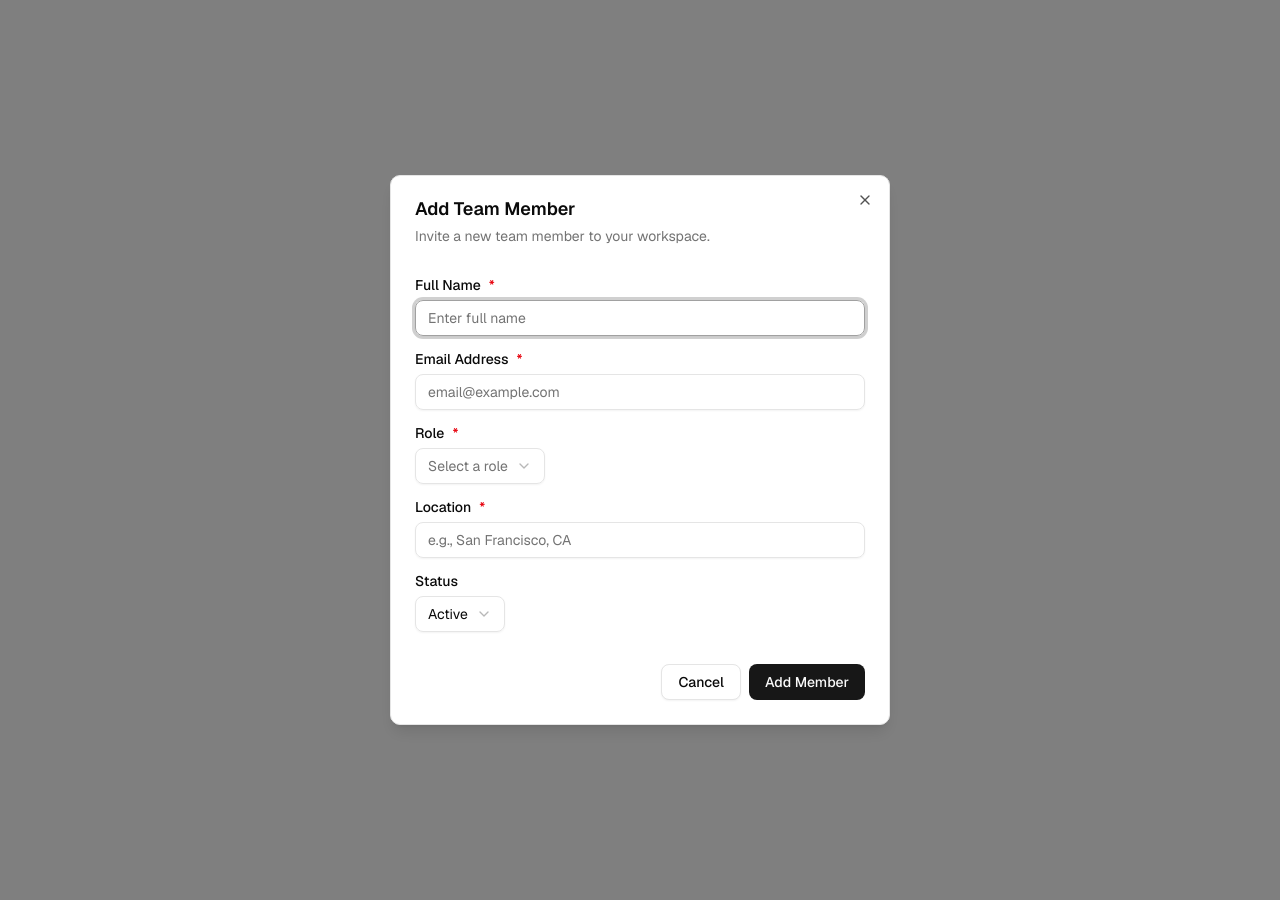
Test case: AddTeamMemberDialog › validates required fields - email
The width and height of the screenshot is (1280, 900).
In the field labelled "Full Name *": (640, 318) x1=415 y1=300 x2=865 y2=336, type "John Doe"
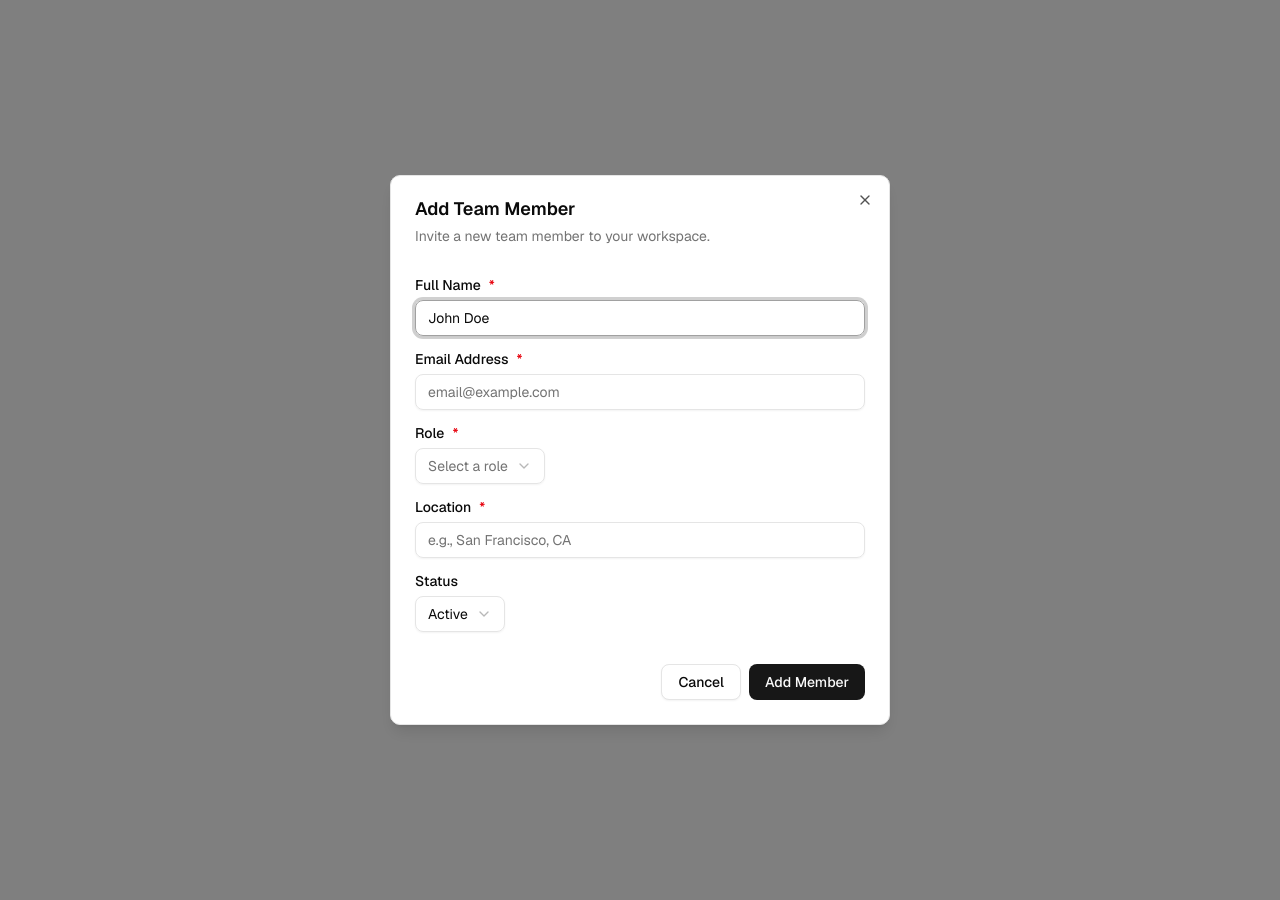
Click the button "Add Member": (807, 682) x1=749 y1=664 x2=865 y2=700
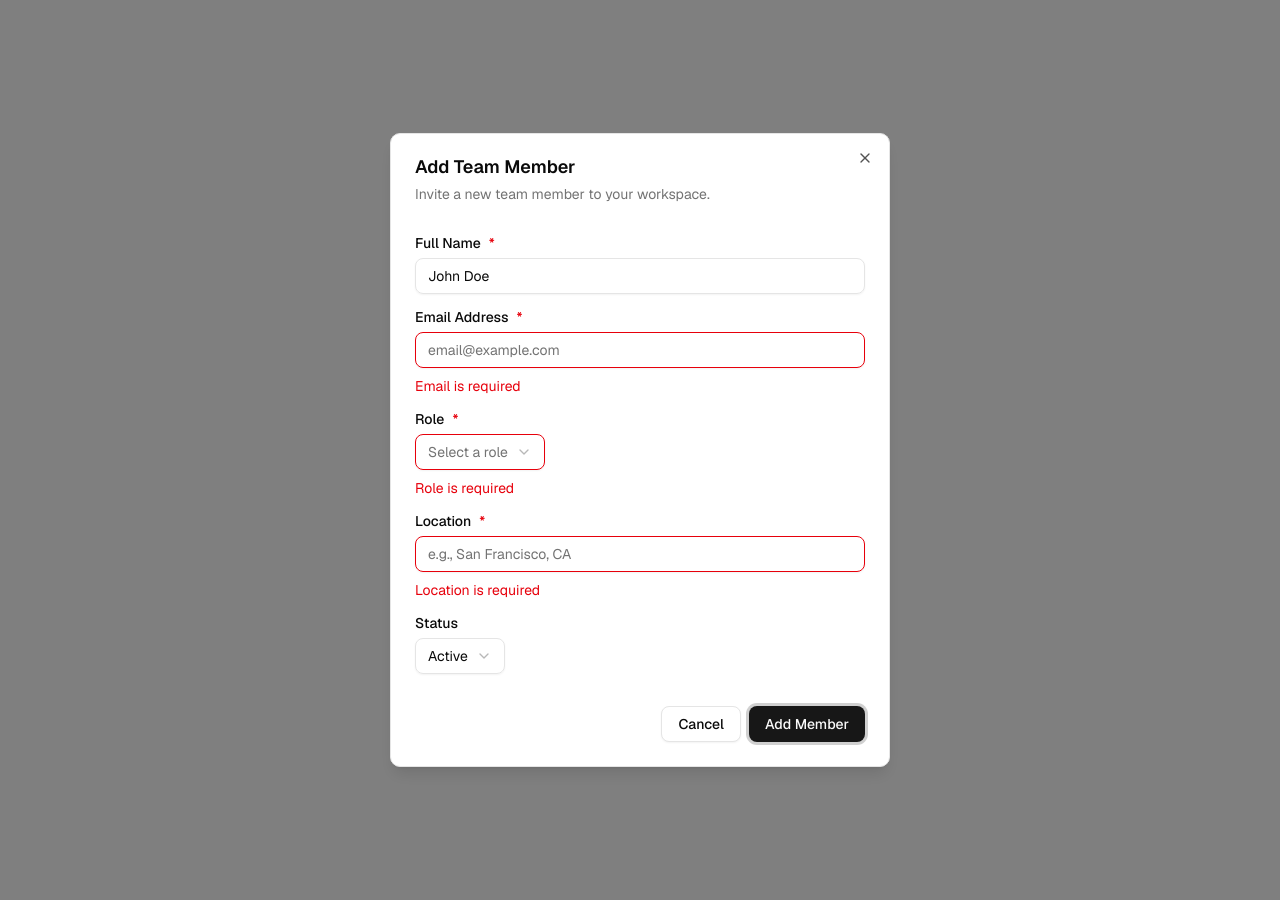
Expected: the text "Email is required" is shown, x1=415 y1=377 x2=521 y2=395
